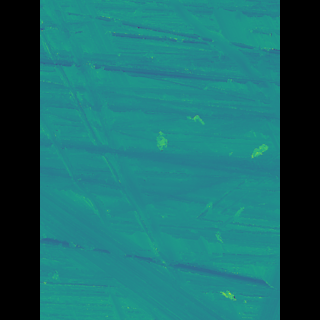Loch: (70, 180, 222, 320), (166, 0, 240, 88)
